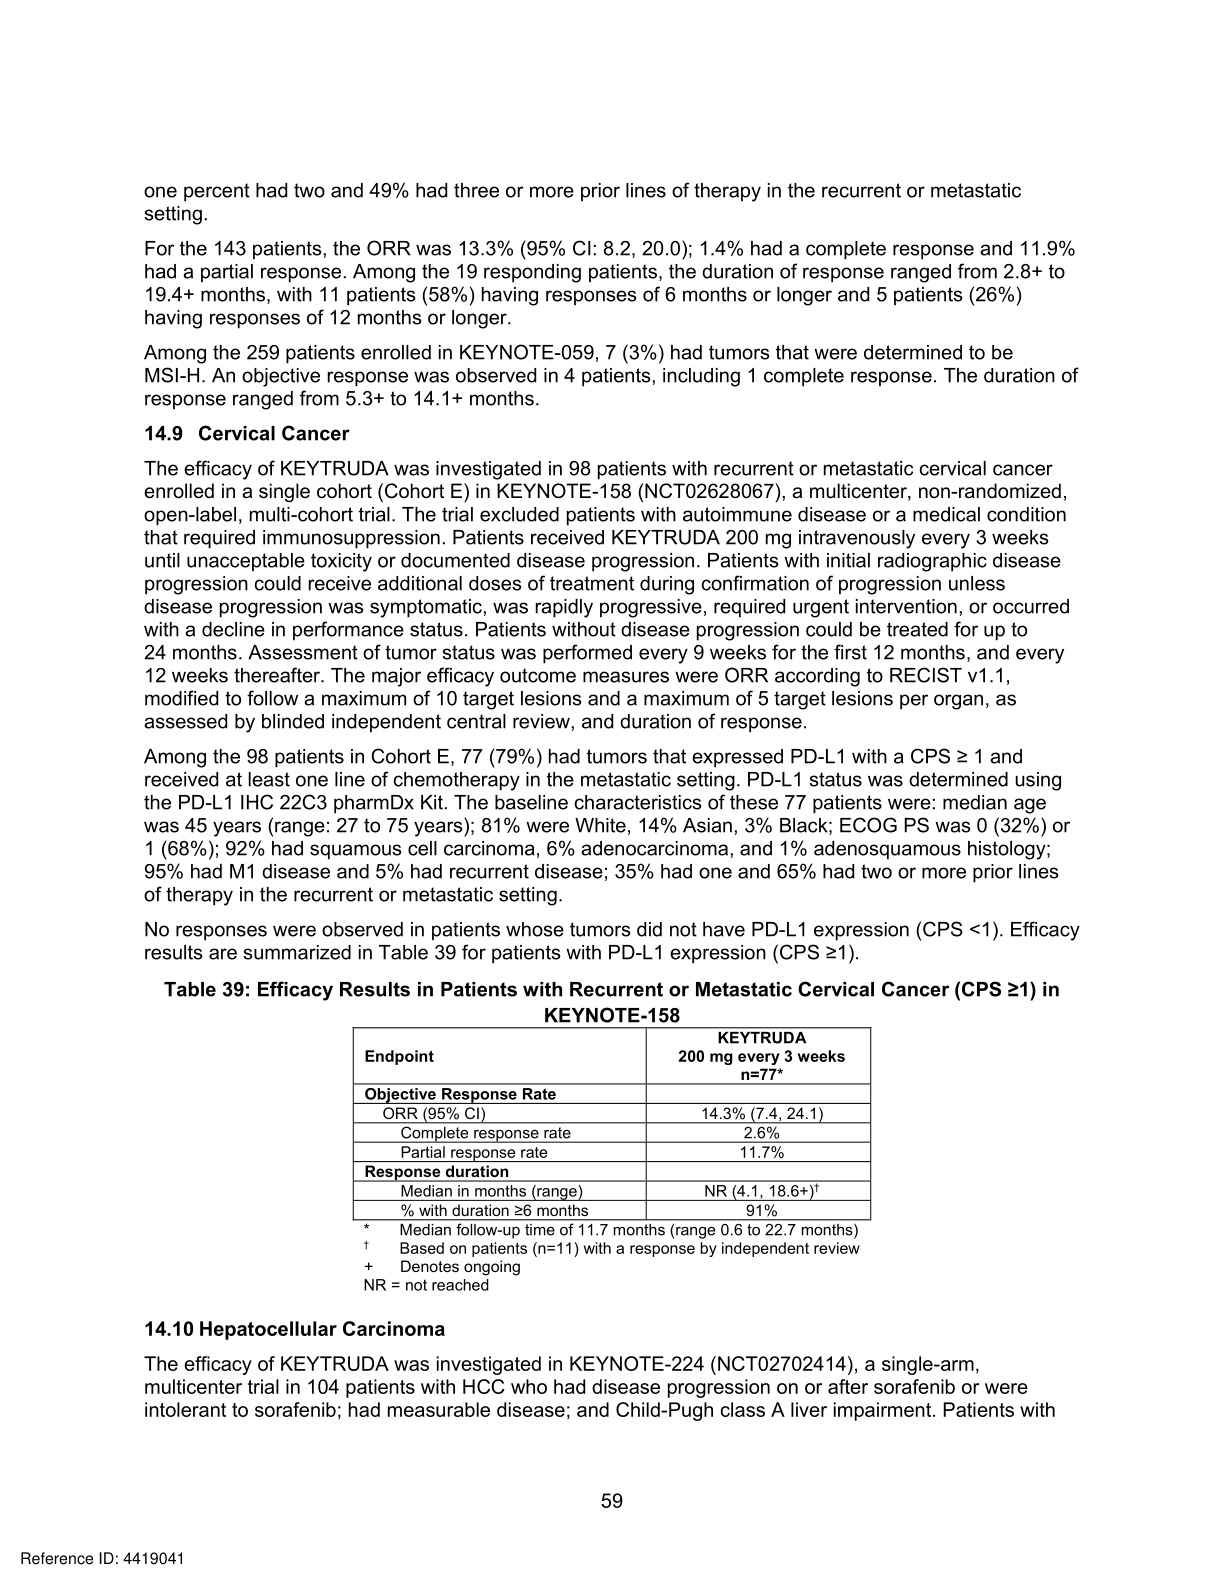full_lined: (351, 1026, 872, 1221)
